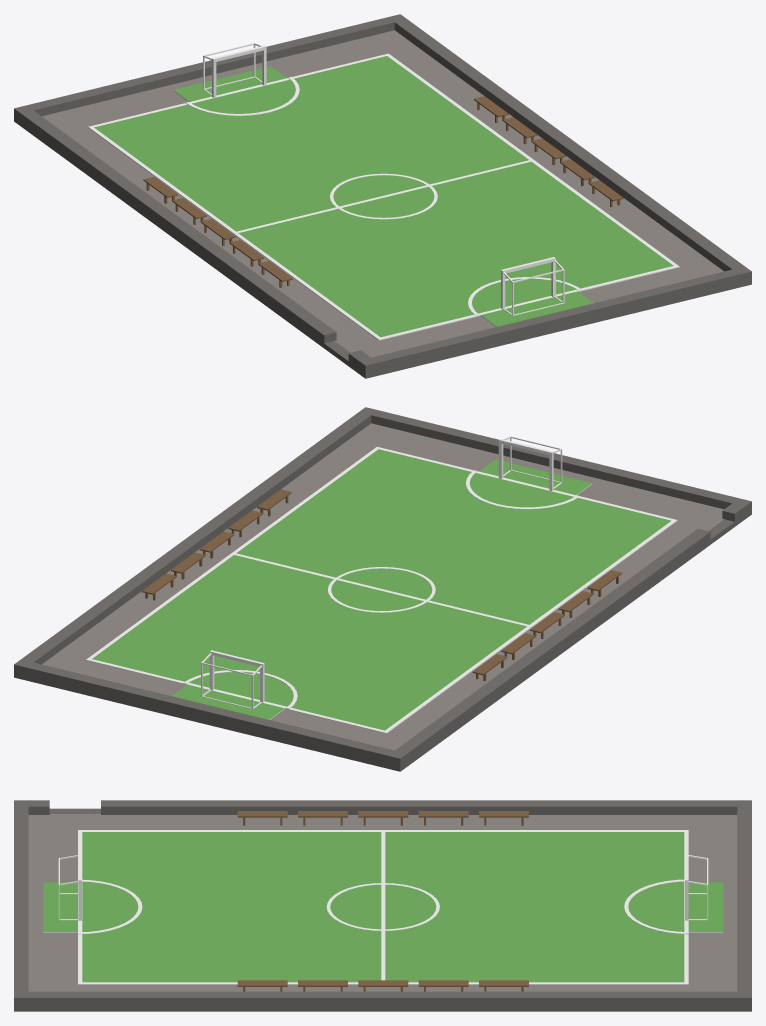
Rendered from Cartoon-Football-Court.fbx.
The picture shows the model from 3 angles, top to bottom: view 1: azimuth 30°, elevation 25°; view 2: azimuth 150°, elevation 25°; view 3: azimuth 270°, elevation 25°; orthographic projection. The views are drawn at different scales.
Parts seen in each view (by area): view 1: Football, Football.001, Football.002; view 2: Football, Football.002, Football.001; view 3: Football, Football.001, Football.002.
Boxes of the visible parts, x1,y1,x2,y2 form: Football: (14,14,751,378); Football.001: (501,257,564,315); Football.002: (203,43,266,97); Football: (14,407,751,771); Football.002: (201,650,264,709); Football.001: (498,436,562,490); Football: (14,800,751,1011); Football.001: (58,853,81,920); Football.002: (685,853,708,920).
Size of the model in its own units: 1530 by 168 by 2411.
